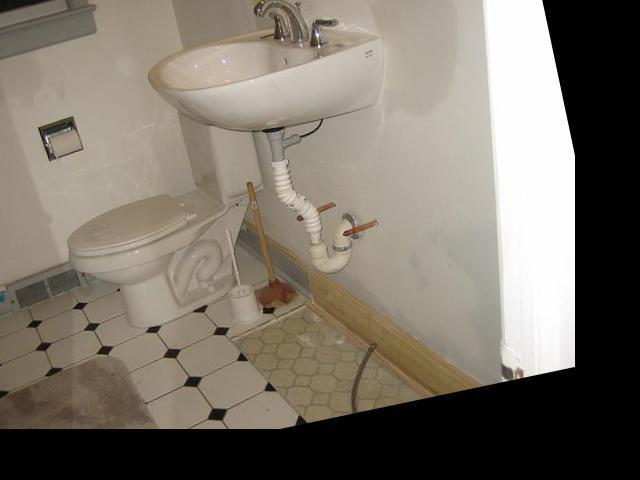Lavamanos: (122, 0, 439, 322)
Sanitario: (20, 54, 307, 350)
